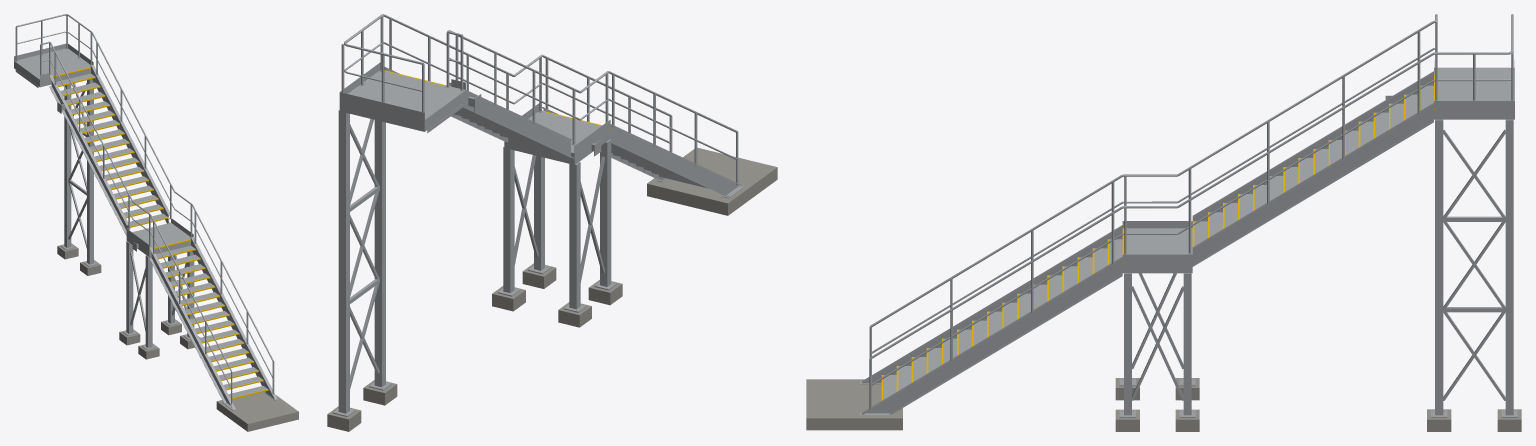
The model's file is cub-access-stair.glb.
3 renders of one model, left to right at view 1: azimuth 30°, elevation 25°; view 2: azimuth 150°, elevation 25°; view 3: azimuth 270°, elevation 25°, orthographic. The views are drawn at different scales.
Visible parts, largest first — view 1: STAIR_Columns, STAIR_Flight1_Treads, STAIR_Flight2_Treads, STAIR_Foundations, STAIR_Handrail_East, STAIR_Flight1_Stringers, STAIR_Flight2_Stringers, STAIR_Landing_Top, STAIR_Handrail_West, STAIR_Landing_Mid; view 2: STAIR_Columns, STAIR_Foundations, STAIR_Landing_Top, STAIR_Handrail_East, STAIR_Handrail_West, STAIR_Flight1_Stringers, STAIR_Landing_Mid, STAIR_Flight2_Stringers, STAIR_Flight1_Treads, STAIR_Flight2_Treads; view 3: STAIR_Columns, STAIR_Flight1_Stringers, STAIR_Flight2_Stringers, STAIR_Foundations, STAIR_Handrail_East, STAIR_Flight1_Treads, STAIR_Flight2_Treads, STAIR_Handrail_West, STAIR_Landing_Top, STAIR_Landing_Mid.
Part boxes in pixels (x1,y1,x2,y2): STAIR_Columns: (61,79,194,350); STAIR_Flight1_Treads: (156,245,268,399); STAIR_Flight2_Treads: (56,73,168,227); STAIR_Foundations: (57,243,298,431); STAIR_Handrail_East: (15,14,274,394); STAIR_Flight1_Stringers: (149,237,278,410); STAIR_Flight2_Stringers: (49,65,169,235); STAIR_Landing_Top: (14,43,93,87); STAIR_Handrail_West: (39,41,232,404); STAIR_Landing_Mid: (126,219,193,257); STAIR_Columns: (333,110,616,416); STAIR_Foundations: (327,147,777,431); STAIR_Landing_Top: (339,62,465,133); STAIR_Handrail_East: (341,14,672,152); STAIR_Handrail_West: (445,30,738,184); STAIR_Flight1_Stringers: (542,107,745,198); STAIR_Landing_Mid: (504,103,610,164); STAIR_Flight2_Stringers: (384,67,574,158); STAIR_Flight1_Treads: (611,143,708,188); STAIR_Flight2_Treads: (454,107,549,147); STAIR_Columns: (1119,119,1517,417); STAIR_Flight1_Stringers: (860,225,1122,415); STAIR_Flight2_Stringers: (1192,71,1433,266); STAIR_Foundations: (806,378,1521,431); STAIR_Handrail_East: (869,14,1514,409); STAIR_Flight1_Treads: (881,239,1122,400); STAIR_Flight2_Treads: (1192,85,1433,246); STAIR_Handrail_West: (869,14,1438,357); STAIR_Landing_Top: (1434,60,1514,119); STAIR_Landing_Mid: (1122,221,1192,273).
Size of the model in its own units: 1.97 by 7.67 by 13.29.
